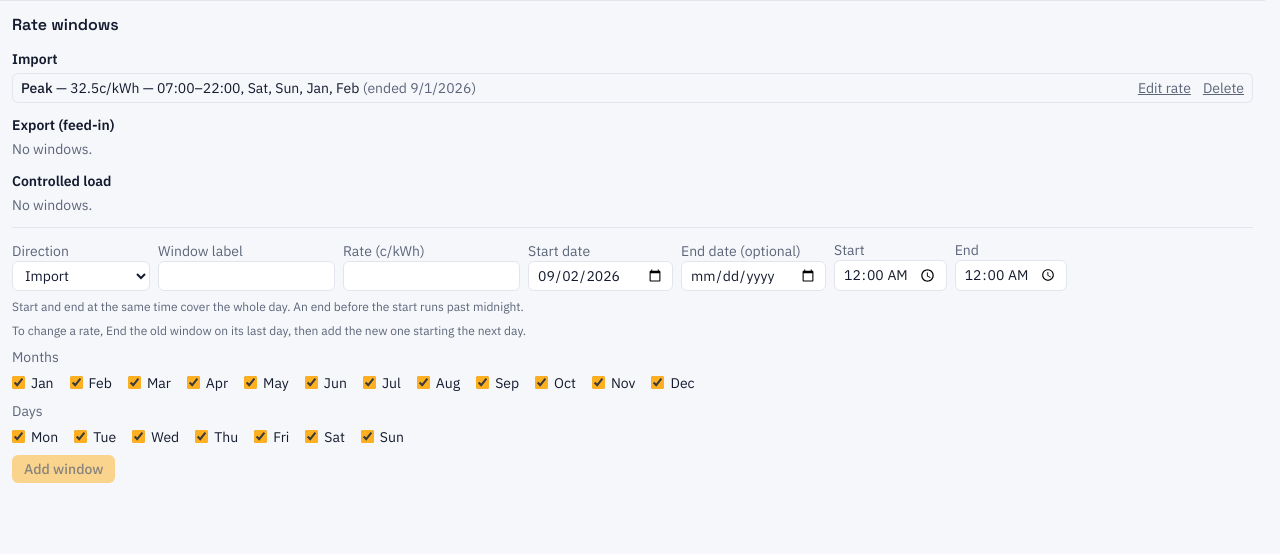
Test case: RateWindowsPanel › Edit rate › sends the window back unchanged apart from the new rate, then closes
This screenshot has width=1280, height=554.
Click the button with aria-label "Edit rate of Peak" at (1164, 88), box [1138,78,1191,98]
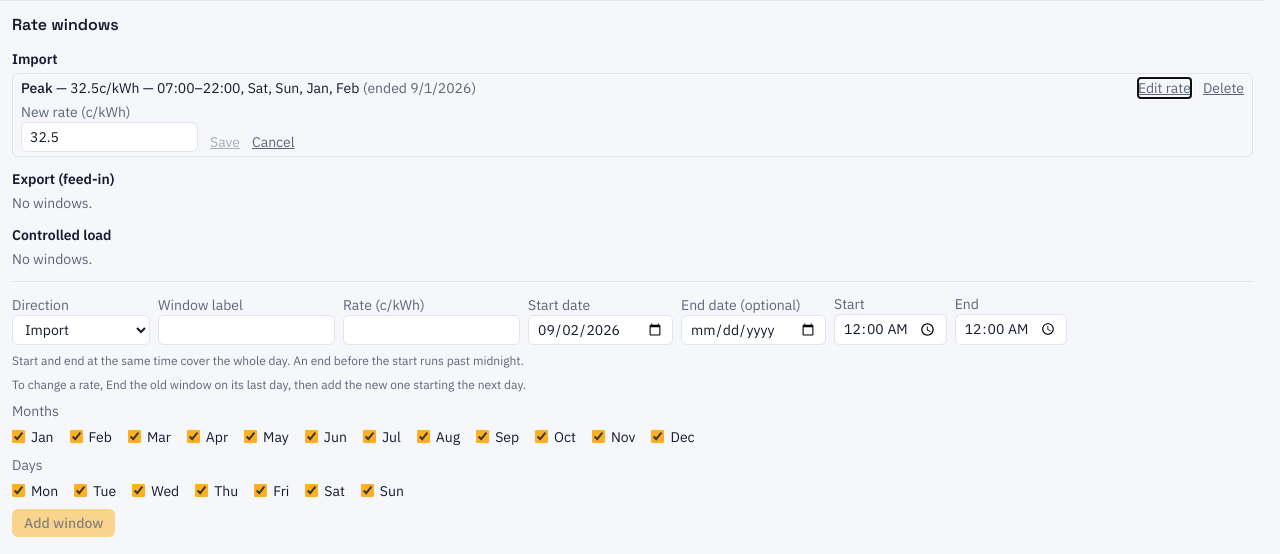
Replace the text in the number field labelled "New rate (c/kWh)" with "35" at (110, 137), box [21,122,198,152]
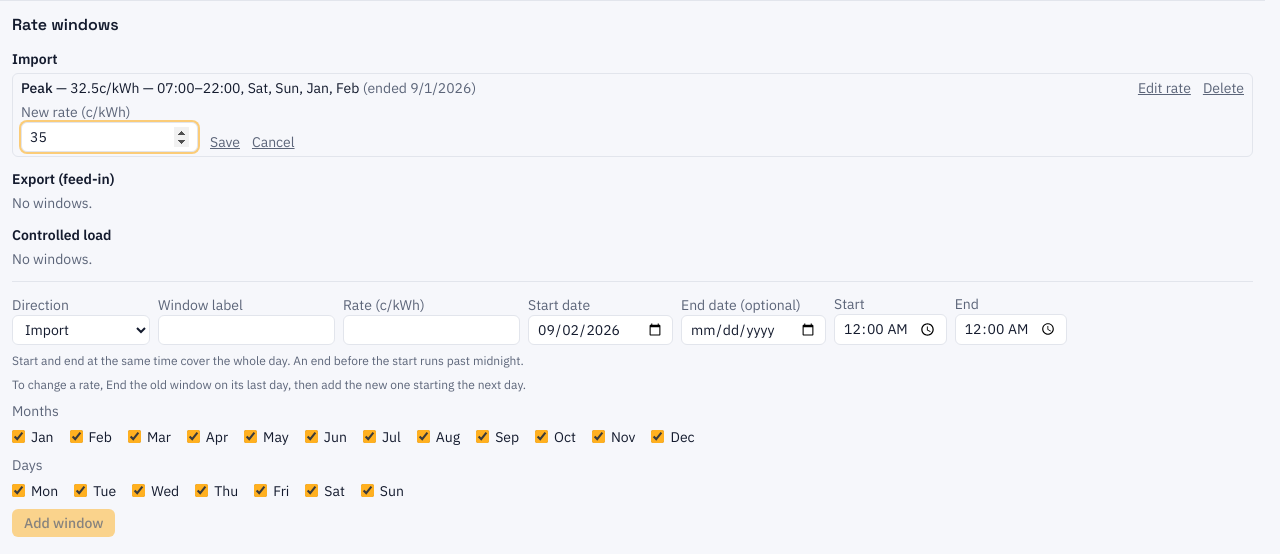
Click the button "Save" at (225, 142), box [210,132,240,152]
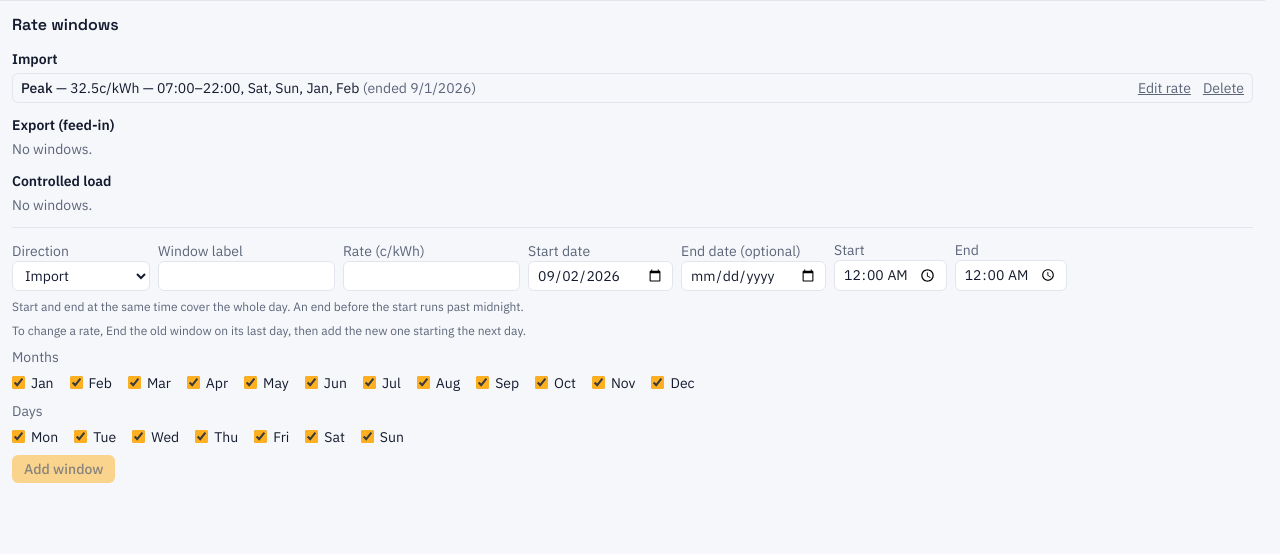
Check: the label labelled "New rate (c/kWh)" is gone
